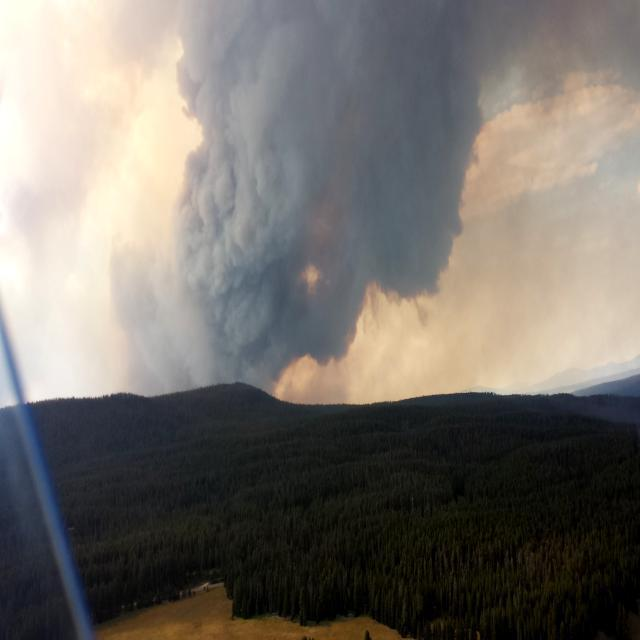Smoke: (112, 0, 535, 386)
